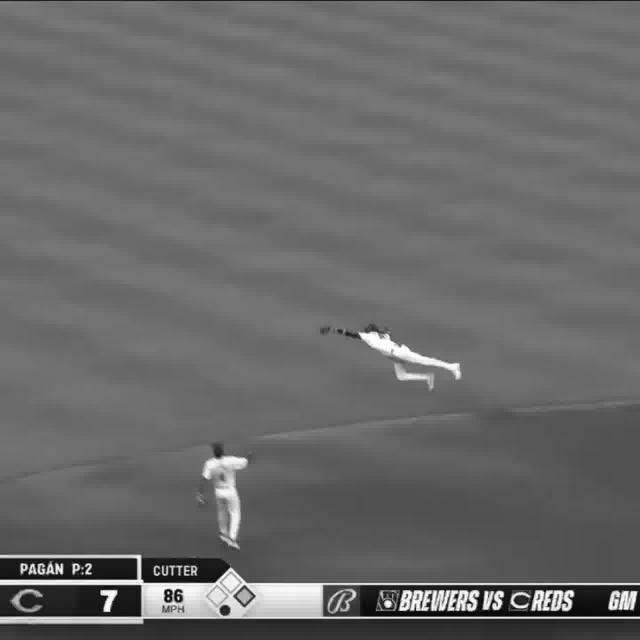baseball_glove: (198, 493, 211, 511), (319, 327, 334, 335)
shoe: (449, 358, 465, 383), (220, 534, 240, 552), (426, 374, 436, 394)
